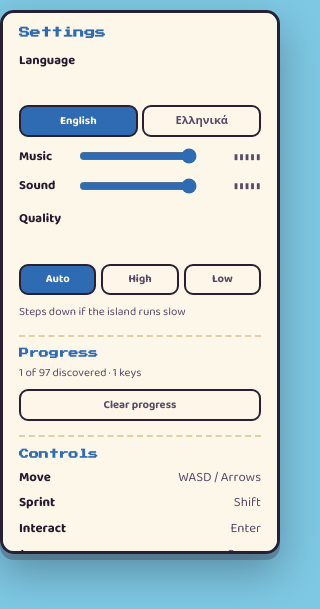
Test case: taking the visit back › asks again before it does
Click the button "Clear progress" at {"x": 140, "y": 405}, box [19,389,261,421]
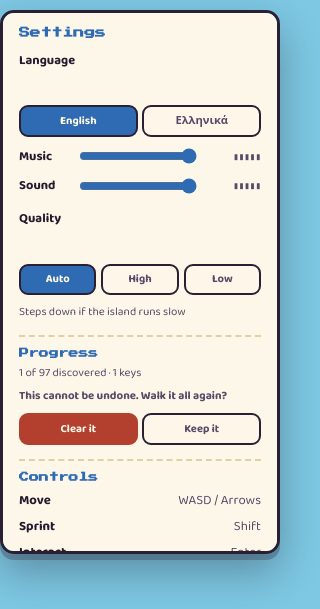
Result: the button "Clear it" is shown at [19,413,138,444]
Result: the button "Keep it" is shown at [142,413,261,444]
